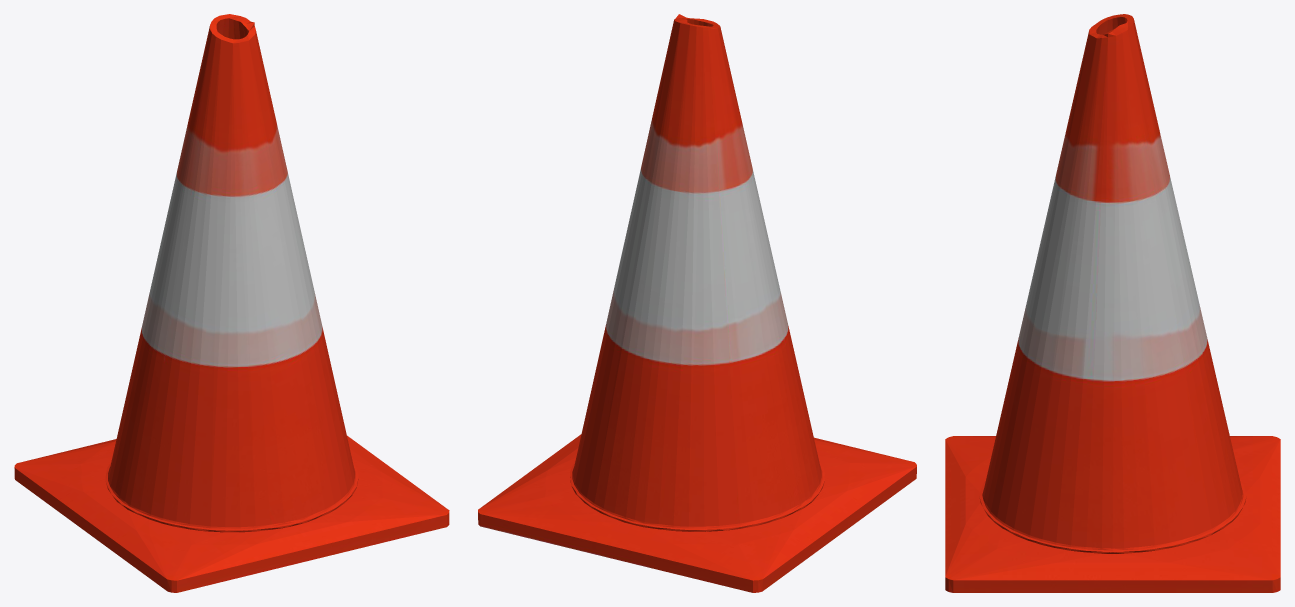
3 renders of one model, left to right at view 1: azimuth 30°, elevation 25°; view 2: azimuth 150°, elevation 25°; view 3: azimuth 270°, elevation 25°, orthographic. The views are drawn at different scales.
Parts seen in each view (by area): view 1: tripo_node_d5ef6f18-cb3f-4160-a64e-5eaff9678829; view 2: tripo_node_d5ef6f18-cb3f-4160-a64e-5eaff9678829; view 3: tripo_node_d5ef6f18-cb3f-4160-a64e-5eaff9678829.
Boxes of the visible parts, x1,y1,x2,y2 form: tripo_node_d5ef6f18-cb3f-4160-a64e-5eaff9678829: (14,14,449,592); tripo_node_d5ef6f18-cb3f-4160-a64e-5eaff9678829: (478,14,916,592); tripo_node_d5ef6f18-cb3f-4160-a64e-5eaff9678829: (945,14,1280,592).
Bounding box in the file's own units: 0.6163 × 1 × 0.606.
Materials: 1 (1 with a texture image).
